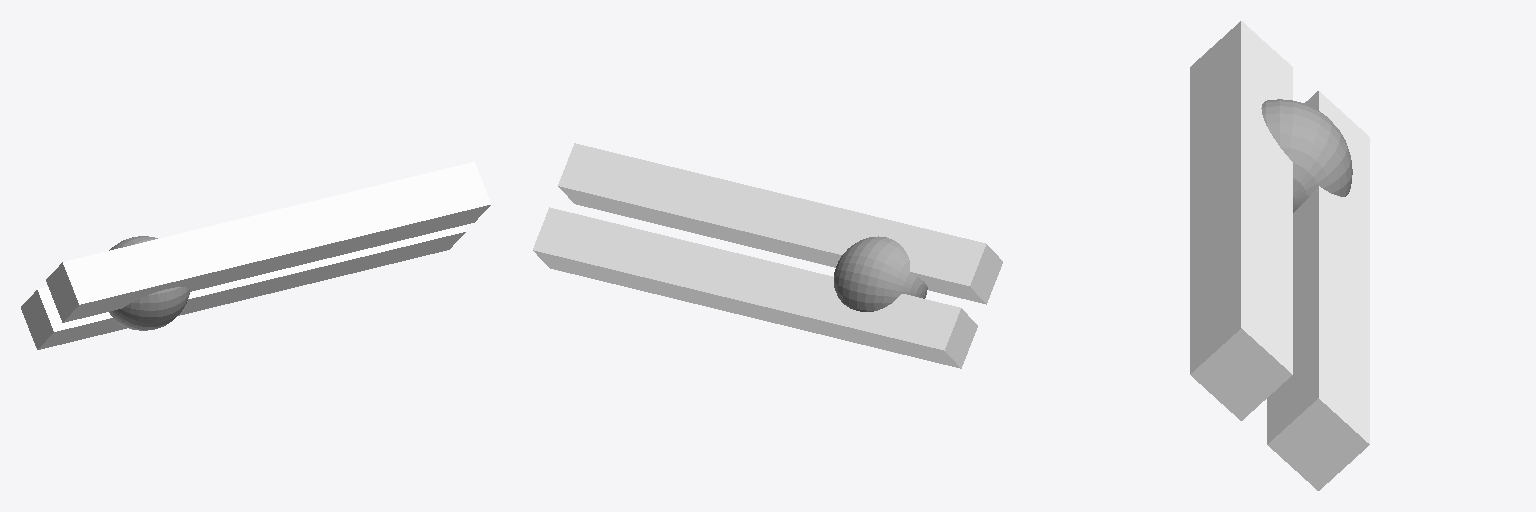
robot.urdf — panda_arm_hand:
<?xml version='1.0' encoding='utf-8'?>
<robot name="panda_arm_hand">

    <link name="link0">
      <inertial>
        <origin xyz="0 0 0.05" rpy="0 0 0" />
        <mass value="4" />
        <inertia ixx="0.4" iyy="0.4" izz="0.4" ixy="0" ixz="0" iyz="0" />
      </inertial>
      <visual>
        <geometry>
          <mesh filename="../../../model/panda/meshes/visual/link0.obj"/>
        </geometry>
      </visual>
<!--       <collision>
        <geometry>
          <mesh filename="../../../model/panda/meshes/collision/link0.obj"/>
        </geometry>
      </collision> -->
    </link>
    <link name="link1">
      <inertial>
        <origin xyz="0 0 -0.07" rpy="0 -0 0" />
        <mass value="3" />
        <inertia ixx="0.3" iyy="0.3" izz="0.3" ixy="0" ixz="0" iyz="0" />
      </inertial>
      <visual>
        <geometry>
          <mesh filename="../../../model/panda/meshes/visual/link1.obj"/>
        </geometry>
      </visual>
      <!-- <collision>
        <geometry>
          <mesh filename="../../../model/panda/meshes/collision/link1.obj"/>
        </geometry>
      </collision> -->
    </link>
    <link name="link2">
      <inertial>
        <origin xyz="0 -0.1 0" rpy="0 -0 0" />
        <mass value="3" />
        <inertia ixx="0.3" iyy="0.3" izz="0.3" ixy="0" ixz="0" iyz="0" />
      </inertial>
      <visual>
        <geometry>
          <mesh filename="../../../model/panda/meshes/visual/link2.obj"/>
        </geometry>
      </visual>
      <!-- <collision>
        <geometry>
          <mesh filename="../../../model/panda/meshes/collision/link2.obj"/>
        </geometry>
      </collision> -->
    </link>
    <link name="link3">
      <inertial>
        <origin xyz="0.04 0 -0.05" rpy="0 -0 0" />
        <mass value="2" />
        <inertia ixx="0.2" iyy="0.2" izz="0.2" ixy="0" ixz="0" iyz="0" />
      </inertial>
      <visual>
        <geometry>
          <mesh filename="../../../model/panda/meshes/visual/link3.obj"/>
        </geometry>
      </visual>
      <!-- <collision>
        <geometry>
          <mesh filename="../../../model/panda/meshes/collision/link3.obj"/>
        </geometry>
      </collision> -->
    </link>
    <link name="link4">
      <inertial>
        <origin xyz="-0.04 0.05 0" rpy="0 -0 0" />
        <mass value="2" />
        <inertia ixx="0.2" iyy="0.2" izz="0.2" ixy="0" ixz="0" iyz="0" />
      </inertial>
      <visual>
        <geometry>
          <mesh filename="../../../model/panda/meshes/visual/link4.obj"/>
        </geometry>
      </visual>
<!--       <collision>
        <geometry>
          <mesh filename="../../../model/panda/meshes/collision/link4.obj"/>
        </geometry>
      </collision> -->
    </link>
    <link name="link5">
      <inertial>
        <origin xyz="0 0 -0.15" rpy="0 -0 0" />
        <mass value="2" />
        <inertia ixx="0.2" iyy="0.2" izz="0.2" ixy="0" ixz="0" iyz="0" />
      </inertial>
      <visual>
        <geometry>
          <mesh filename="../../../model/panda/meshes/visual/link5.obj"/>
        </geometry>
      </visual>
<!--       <collision>
        <geometry>
          <mesh filename="../../../model/panda/meshes/collision/link5.obj"/>
        </geometry>
      </collision> -->
    </link>
    <link name="link6">
      <inertial>
        <origin xyz="0.06 0 0" rpy="0 -0 0" />
        <mass value="1.5" />
        <inertia ixx="0.1" iyy="0.1" izz="0.1" ixy="0" ixz="0" iyz="0" />
      </inertial>
      <visual>
        <geometry>
          <mesh filename="../../../model/panda/meshes/visual/link6.obj"/>
        </geometry>
      </visual>
      <!-- <collision>
        <geometry>
          <mesh filename="../../../model/panda/meshes/collision/link6.obj"/>
        </geometry>
      </collision> -->
    </link>
    <link name="link7">
      <inertial>
        <origin xyz="0 0 0.17" rpy="0 -0 0" />
        <mass value="1.8" />
        <inertia ixx="0.09" iyy="0.05" izz="0.07" ixy="0" ixz="0" iyz="0" />
      </inertial>
      <visual>
        <origin xyz="0 0 0.22" rpy="0 0 0" />
        <geometry>
          <sphere radius="0.02" />
        </geometry>
      </visual>
      <visual>
        <geometry>
          <mesh filename="../../../model/panda/meshes/visual/link7.obj"/>
        </geometry>
      </visual>
      <collision>
        <geometry>
          <mesh filename="../../../model/panda/meshes/collision/link7.obj"/>
        </geometry>
      </collision>
      <visual>
        <origin xyz="0 0 0.107" rpy="0 0 -0.78539816339" />
        <geometry>
          <mesh filename="../../../model/panda/meshes/visual/hand.obj"/>
        </geometry>
      </visual>
      <collision>
        <!-- <origin xyz="0 0 0.107" rpy="0 0 -0.78539816339" /> -->
        <geometry>
          <mesh filename="../../../model/panda/meshes/collision/hand.obj"/>
        </geometry>
      </collision>
    </link>
    
    <link name="leftfinger">
      <inertial>
        <origin xyz="0 0 0.05" rpy="0 -0 0" />
        <mass value="0.1" />
        <inertia ixx="0.01" iyy="0.01" izz="0.005" ixy="0" ixz="0" iyz="0" />
      </inertial>

      <visual>
           <origin xyz="0 0 0" rpy="0 0 0" />
           <geometry>
               <mesh filename="../../../model/panda/meshes/visual/finger.obj"/>
           </geometry>
           <material name="material">
               <color rgba="1 1 1 1.0" />
           </material>
       </visual>

      <!-- visuals for boxes -->
       <visual>
           <origin xyz="-0.015 0 0" rpy="0 0 0" />
           <geometry>
               <box size="0.02 0.02 0.2" />
           </geometry>
           <material name="material">
               <color rgba="1 1 1 1.0" />
           </material>
       </visual>

       <visual>
           <origin xyz="0.015 0 0" rpy="0 0 0" />
           <geometry>
               <box size="0.02 0.02 0.2" />
           </geometry>
           <material name="material">
               <color rgba="1 1 1 1.0" />
           </material>
       </visual>
       <!-- visuals for boxes -->
 
       <collision>
           <origin xyz="-0.015 0 0" rpy="0 0 0" />
           <geometry>
               <box size="0.02 0.02 0.2" />
           </geometry>
           <origin xyz="0.015 0 0" rpy="0 0 0" />
           <geometry>
               <box size="0.02 0.02 0.2" />
           </geometry>
       </collision>
       
      <!-- <visual>
        <geometry>
          <mesh filename="../../../model/panda/meshes/visual/finger.obj"/>
        </geometry>
      </visual>
      <collision>
        <geometry>
          <mesh filename="../../../model/panda/meshes/collision/finger.obj"/>
        </geometry>
      </collision> -->
    </link>


    <link name="rightfinger">
      <inertial>
        <origin xyz="0 0 0.05" rpy="0 -0 0" />
        <mass value="0.1" />
        <inertia ixx="0.01" iyy="0.01" izz="0.005" ixy="0" ixz="0" iyz="0" />
      </inertial>
      <visual>
          <origin xyz="0 0 0" rpy="0 0 3.14159265359" /> <!--rotation set to pi so fingers face each other-->
          <geometry>
              <mesh filename="../../../model/panda/meshes/visual/finger.obj"/>
           </geometry>
           <material name="material">
               <color rgba="1 1 1 1.0" />
           </material>
       </visual>

       <!-- visuals for boxes -->
       <visual>
           <origin xyz="-0.015 0 0" rpy="0 0 0" />
           <geometry>
               <box size="0.02 0.02 0.2" />
           </geometry>
           <material name="material">
               <color rgba="1 1 1 1.0" />
           </material>
       </visual>

       <visual>
           <origin xyz="0.015 0 0" rpy="0 0 0" />
           <geometry>
               <box size="0.02 0.02 0.2" />
           </geometry>
           <material name="material">
               <color rgba="1 1 1 1.0" />
           </material>
       </visual>
      <!-- visuals for boxes -->

       <collision>
           <origin xyz="-0.015 0 0" rpy="0 0 0" />
           <geometry>
               <box size="0.02 0.02 0.2" />
           </geometry>
           <origin xyz="0.015 0 0" rpy="0 0 0" />
           <geometry>
               <box size="0.02 0.02 0.2" />
           </geometry>
       </collision>

    </link>
    <joint name="joint1" type="revolute">
      <safety_controller k_position="100.0" k_velocity="40.0" soft_lower_limit="-2.8973" soft_upper_limit="2.8973"/>
      <origin rpy="0 0 0" xyz="0 0 0.333"/>
      <parent link="link0"/>
      <child link="link1"/>
      <axis xyz="0 0 1"/>
      <limit effort="87" lower="-2.8973" upper="2.8973" velocity="2.1750"/>
    </joint>
    <joint name="joint2" type="revolute">
      <safety_controller k_position="100.0" k_velocity="40.0" soft_lower_limit="-1.7628" soft_upper_limit="1.7628"/>
      <origin rpy="-1.57079632679 0 0" xyz="0 0 0"/>
      <parent link="link1"/>
      <child link="link2"/>
      <axis xyz="0 0 1"/>
      <calibration falling="15.0" />
      <limit effort="87" lower="-1.7628" upper="1.7628" velocity="2.1750"/>
    </joint>
    <joint name="joint3" type="revolute">
      <safety_controller k_position="100.0" k_velocity="40.0" soft_lower_limit="-2.8973" soft_upper_limit="2.8973"/>
      <origin rpy="1.57079632679 0 0" xyz="0 -0.316 0"/>
      <parent link="link2"/>
      <child link="link3"/>
      <axis xyz="0 0 1"/>
      <limit effort="87" lower="-2.8973" upper="2.8973" velocity="2.1750"/>
    </joint>
    <joint name="joint4" type="revolute">
      <safety_controller k_position="100.0" k_velocity="40.0" soft_lower_limit="-3.0718" soft_upper_limit="-0.0698"/>
      <origin rpy="1.57079632679 0 0" xyz="0.0825 0 0"/>
      <parent link="link3"/>
      <child link="link4"/>
      <axis xyz="0 0 1"/>
      <calibration falling="-95.0" />
      <limit effort="87" lower="-3.0718" upper="-0.0698" velocity="2.1750"/>
    </joint>
    <joint name="joint5" type="revolute">
      <safety_controller k_position="100.0" k_velocity="40.0" soft_lower_limit="-2.8973" soft_upper_limit="2.8973"/>
      <origin rpy="-1.57079632679 0 0" xyz="-0.0825 0.384 0"/>
      <parent link="link4"/>
      <child link="link5"/>
      <axis xyz="0 0 1"/>
      <limit effort="12" lower="-2.8973" upper="2.8973" velocity="2.6100"/>
    </joint>
    <joint name="joint6" type="revolute">
      <safety_controller k_position="100.0" k_velocity="40.0" soft_lower_limit="-0.0175" soft_upper_limit="3.7525"/>
      <origin rpy="1.57079632679 0 0" xyz="0 0 0"/>
      <parent link="link5"/>
      <child link="link6"/>
      <axis xyz="0 0 1"/>
      <calibration falling="125.0" />
      <limit effort="12" lower="-0.0175" upper="3.7525" velocity="2.6100"/>
    </joint>
    <joint name="joint7" type="revolute">
      <safety_controller k_position="100.0" k_velocity="40.0" soft_lower_limit="-2.8973" soft_upper_limit="2.8973"/>
      <origin rpy="1.57079632679 0 0" xyz="0.088 0 0"/>
      <parent link="link6"/>
      <child link="link7"/>
      <axis xyz="0 0 1"/>
      <limit effort="12" lower="-2.8973" upper="2.8973" velocity="2.6100"/>
    </joint>
    <joint name="finger_joint1" type="prismatic">
      <parent link="link7"/>
      <child link="leftfinger"/>
      <origin xyz="0 0 0.1654" rpy="0 0 -0.78539816339"/>
      <axis xyz="0 1 0"/>
      <calibration rising="0.02" />
      <limit effort="20" lower="0.0" upper="0.04" velocity="0.2"/>
    </joint>
    <joint name="finger_joint2" type="prismatic">
      <parent link="link7"/>
      <child link="rightfinger"/>
      <origin xyz="0 0 0.1654" rpy="0 0 -0.78539816339"/>
      <axis xyz="0 1 0"/>
      <calibration rising="-0.02" />
      <limit effort="20" lower="0.0" upper="0.04" velocity="0.2"/>
      <mimic joint="finger_joint1" />
    </joint>
</robot>

--- Render facts (derived) ---
3 views of the same robot in one strip: view 1: azimuth 30°, elevation 25°; view 2: azimuth 150°, elevation 25°; view 3: azimuth 270°, elevation 25° (orthographic).
Model panda_arm_hand with 10 links and 9 joints (7 revolute, 2 prismatic), rooted at link0, posed joints at zero except 1 at the middle of their limits (joint4 = -1.57).
Visible links, largest first — view 1: leftfinger, link7; view 2: leftfinger, link7; view 3: leftfinger, link7.
Link boxes in pixels (x1,y1,x2,y2): leftfinger: (21, 162, 490, 349); link7: (109, 236, 189, 330); leftfinger: (533, 143, 1002, 368); link7: (834, 236, 927, 311); leftfinger: (1190, 21, 1369, 490); link7: (1261, 99, 1352, 212).
Bounding box of the posed robot: 0.2 × 0.0495 × 0.0495 m (x, y, z).
Geometry: only primitive shapes (box / cylinder / sphere) drawn; not drawn: 11 mesh visuals (reference in a form the renderer does not follow).